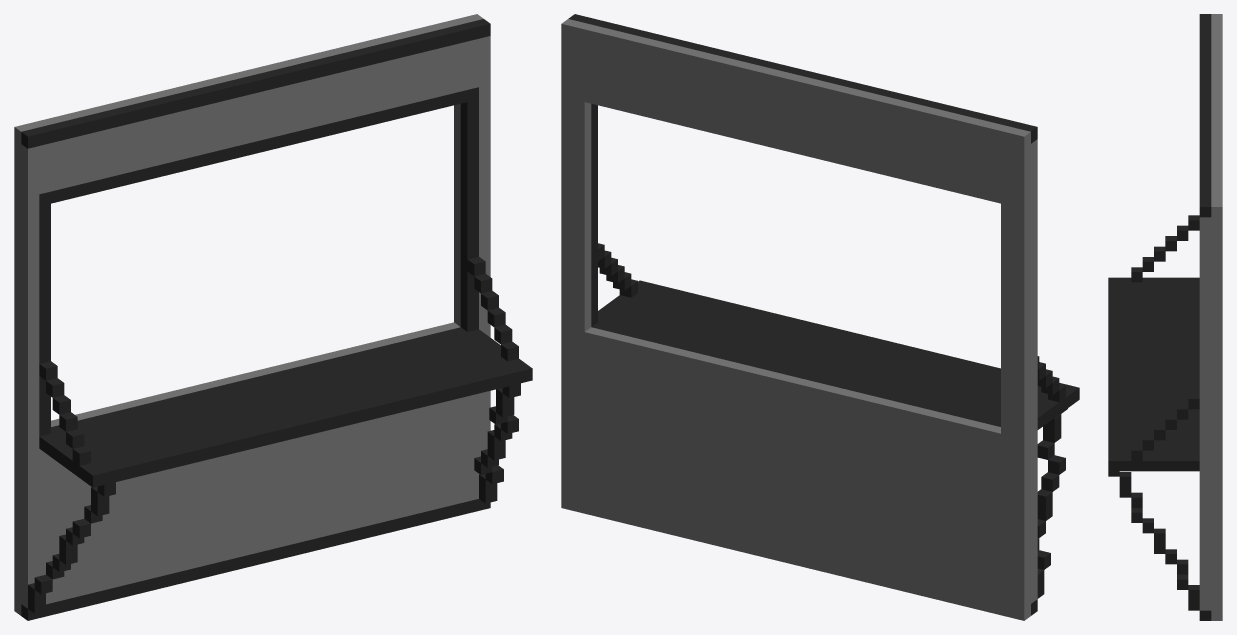
Rendered from Window.obj.
3 views of the same model, side by side, from view 1: azimuth 30°, elevation 25°; view 2: azimuth 150°, elevation 25°; view 3: azimuth 270°, elevation 25° (orthographic). The views are drawn at different scales.
Size of the model in its own units: 4 by 4 by 1.
1 material, 1 textured.
